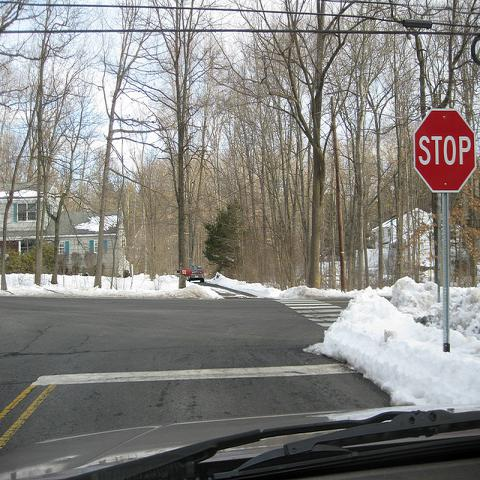car: (1, 406, 479, 474), (189, 265, 204, 281)
